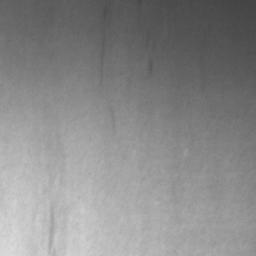Inclusion: (148, 58, 155, 72)
